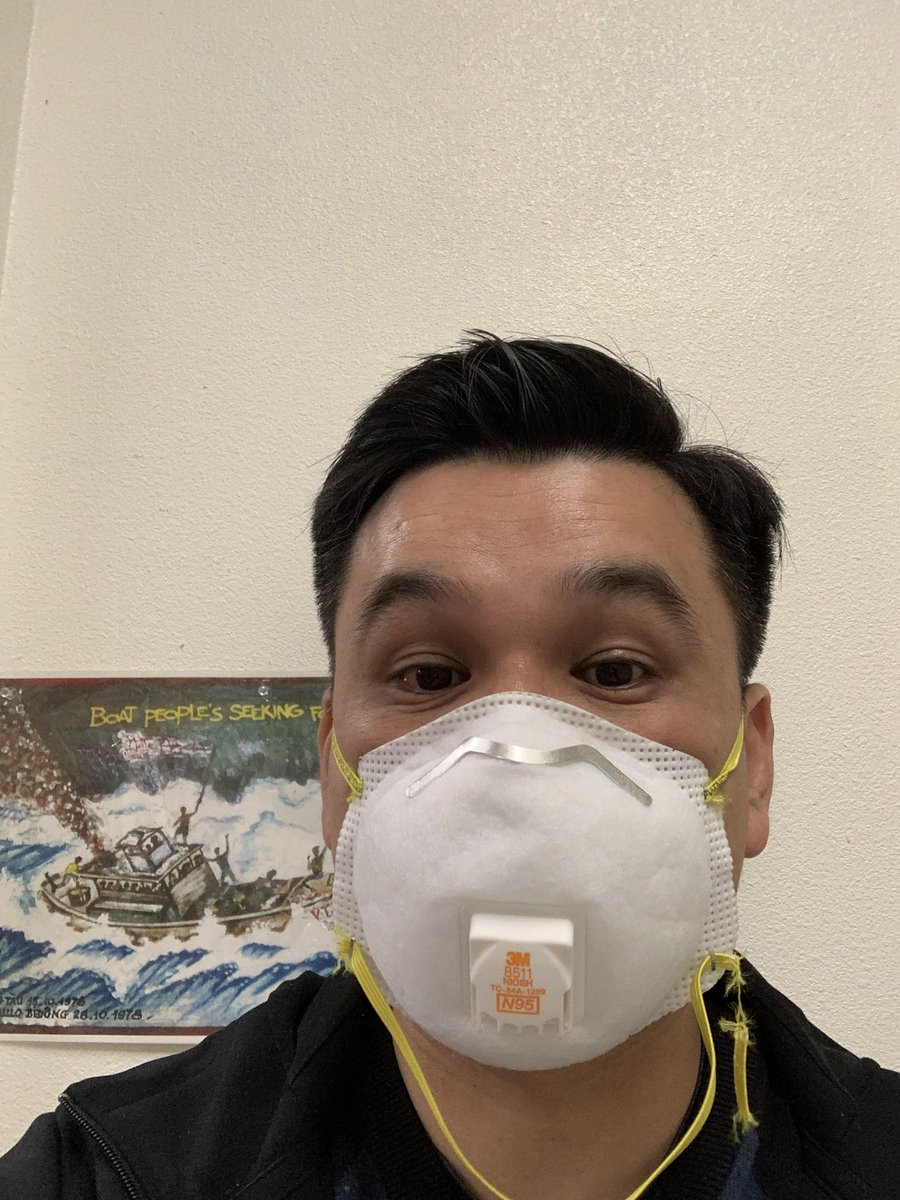n95: (313, 688, 762, 1076)
